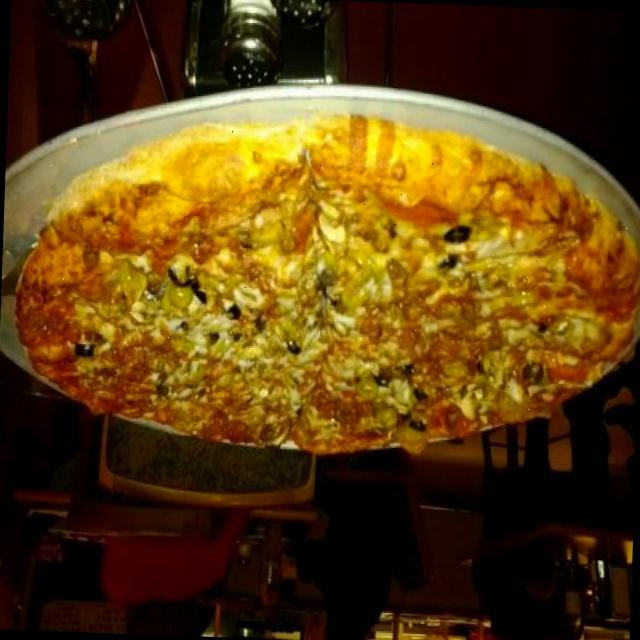Olive: (162, 264, 206, 318), (114, 254, 156, 305), (367, 400, 406, 438), (390, 382, 438, 412), (516, 354, 546, 395), (440, 218, 480, 248), (352, 367, 384, 404), (536, 314, 572, 344), (432, 253, 461, 285), (68, 336, 102, 363), (278, 333, 306, 362), (220, 295, 245, 320)
pizza: (16, 116, 640, 451)
